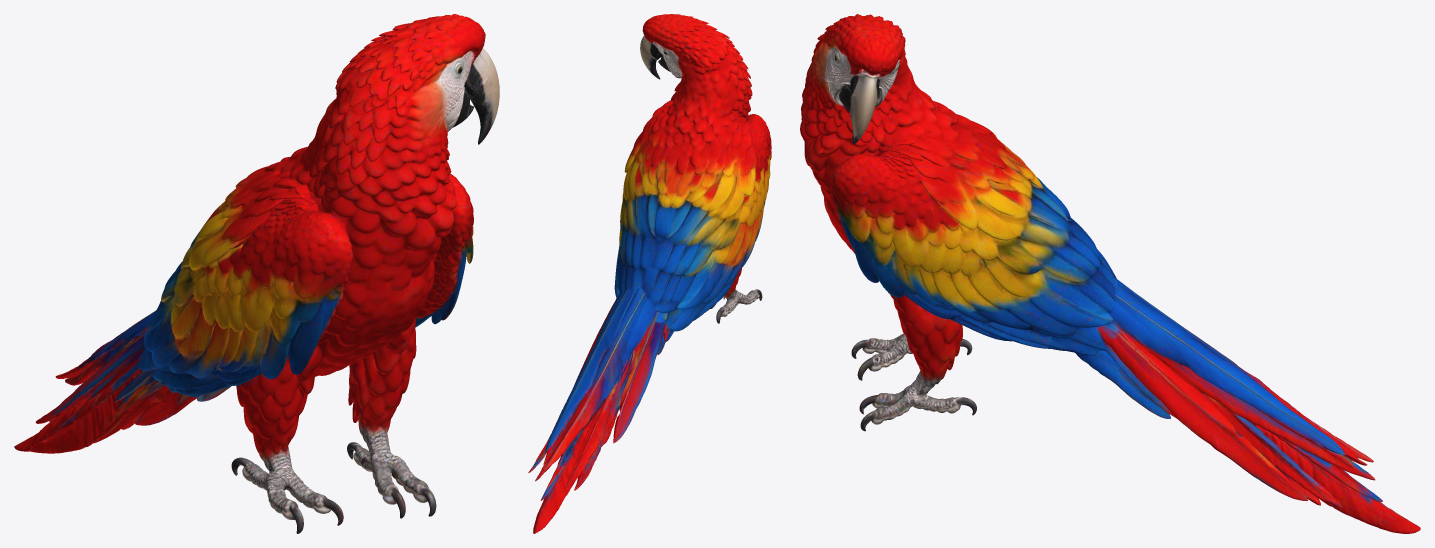
Rendered from parrot-light.glb.
The picture shows the model from 3 angles, left to right: view 1: azimuth 30°, elevation 25°; view 2: azimuth 150°, elevation 25°; view 3: azimuth 270°, elevation 25°; orthographic projection. The views are drawn at different scales.
Visible parts, largest first — view 1: parrot; view 2: parrot; view 3: parrot.
Part boxes in pixels (x1,y1,x2,y2): parrot: [14, 14, 499, 533]; parrot: [528, 14, 771, 533]; parrot: [800, 14, 1420, 533].
Bounding box in the file's own units: 0.3212 × 0.8143 × 0.85.
Materials: 1 (1 with a texture image).
